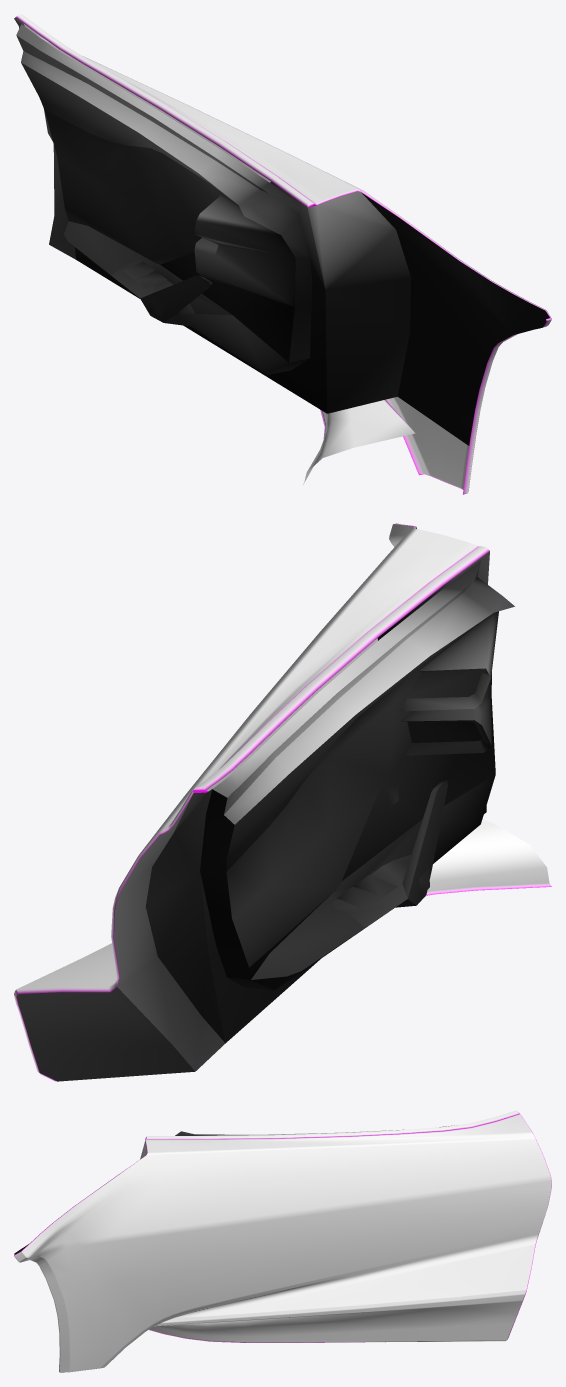
Rendered from Car_Ford_GT_2017_DoorL_SetE.fbx.
The picture shows the model from 3 angles, top to bottom: view 1: azimuth 30°, elevation 25°; view 2: azimuth 150°, elevation 25°; view 3: azimuth 270°, elevation 25°; orthographic projection. The views are drawn at different scales.
Parts seen in each view (by area): view 1: DoorL 6; view 2: DoorL 6; view 3: DoorL 6.
Boxes of the visible parts, x1,y1,x2,y2 form: DoorL 6: (14, 14, 551, 494); DoorL 6: (14, 523, 551, 1081); DoorL 6: (14, 1110, 551, 1372).
Bounding box in the file's own units: 0.512 × 0.66 × 1.52.
